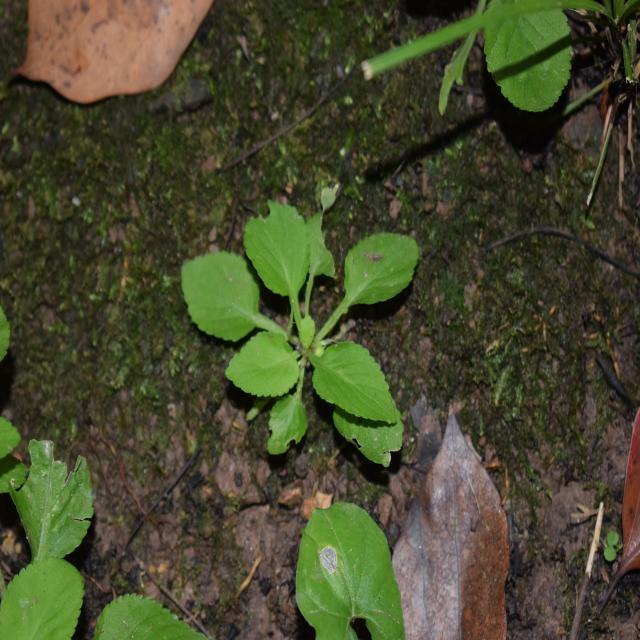Viola: (196, 188, 410, 458)
